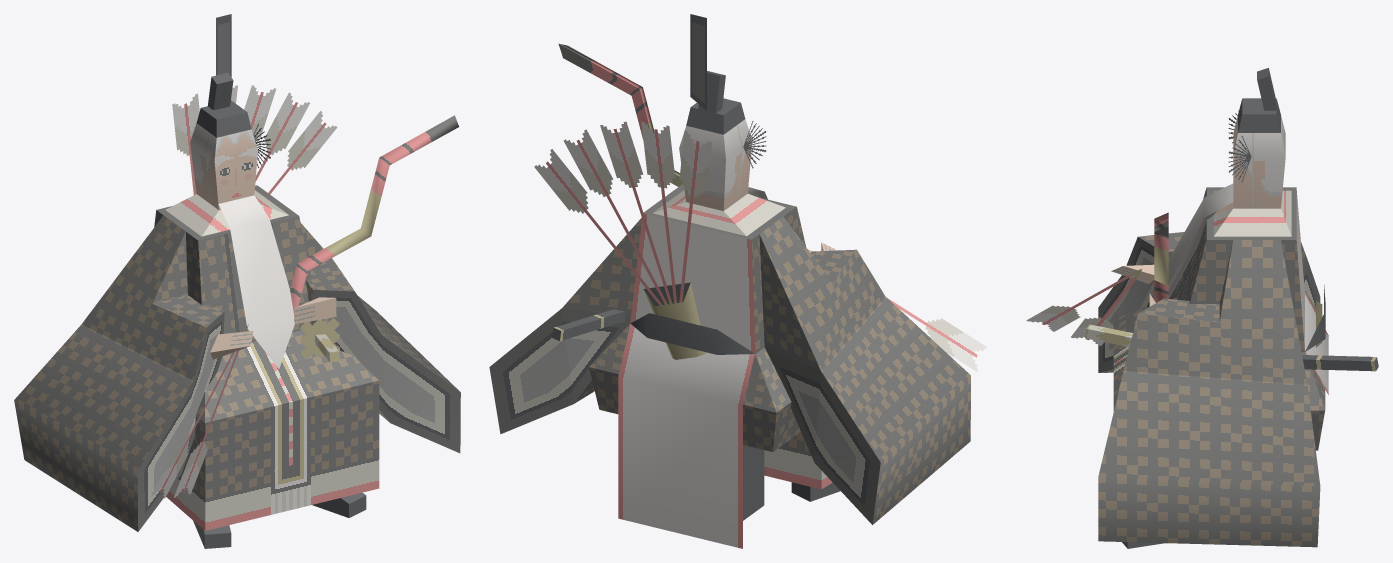
The model's file is 029f_Left_Councillor.glb.
3 views of the same model, side by side, from view 1: azimuth 30°, elevation 25°; view 2: azimuth 150°, elevation 25°; view 3: azimuth 270°, elevation 25° (orthographic). The views are drawn at different scales.
Visible parts, largest first — view 1: part_0; view 2: part_0; view 3: part_0.
Part boxes in pixels (left/top/right/bottom): part_0: left=14, top=14, right=460, bottom=548; part_0: left=489, top=14, right=986, bottom=548; part_0: left=1026, top=68, right=1378, bottom=548.
Size of the model in its own units: 0.3346 by 0.3983 by 0.2641.
1 material, 1 textured.
